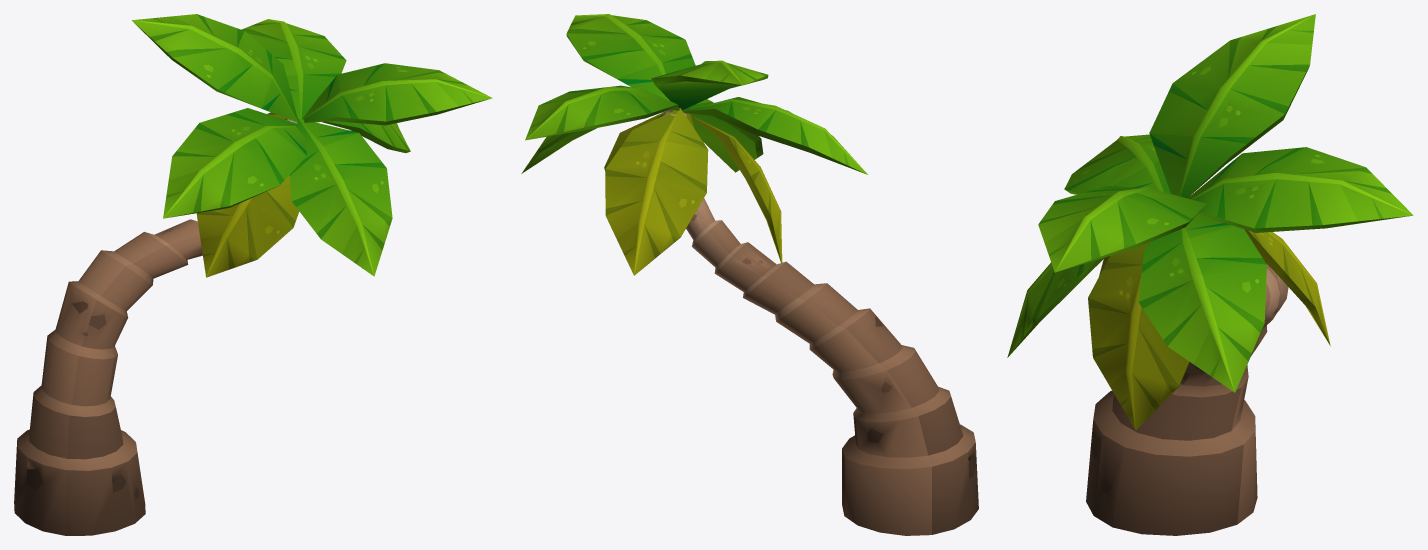
Rendered from coconut2.glb.
3 views of the same model, side by side, from view 1: azimuth 30°, elevation 25°; view 2: azimuth 150°, elevation 25°; view 3: azimuth 270°, elevation 25° (orthographic). The views are drawn at different scales.
Visible parts, largest first — view 1: coconut2; view 2: coconut2; view 3: coconut2.
Part boxes in pixels (box(x1,y1,x2,y2)): coconut2: box(14, 14, 492, 535); coconut2: box(521, 14, 978, 535); coconut2: box(1007, 14, 1413, 535).
Size of the model in its own units: 5.22 by 4.95 by 3.3.
1 material, 1 textured.
